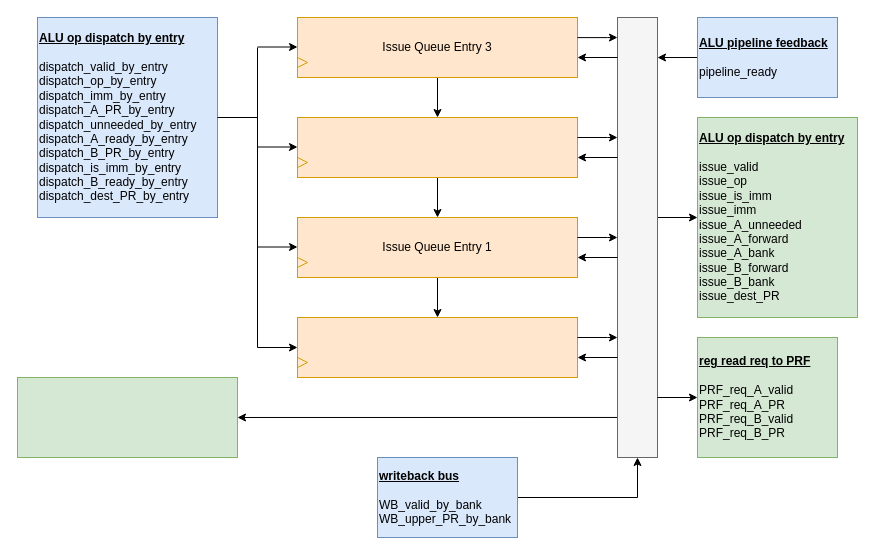
The diagram is 875 pixels wide and 555 high, and some of its shapes have lost their labels. Here are the shapes that lost their labels. From the top down, the centre of each, then its label:
(437,147): Issue Queue Entry 2
(437,347): Issue Queue Entry 0
(127,417): ALU op dispatch feedback by entry dispatch_open_by_entry
